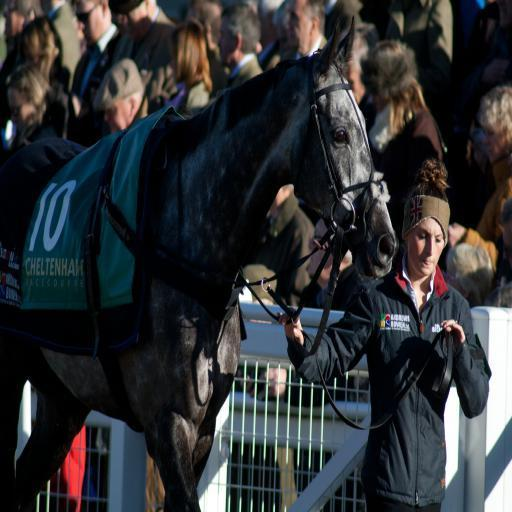horse: (0, 12, 400, 512)
